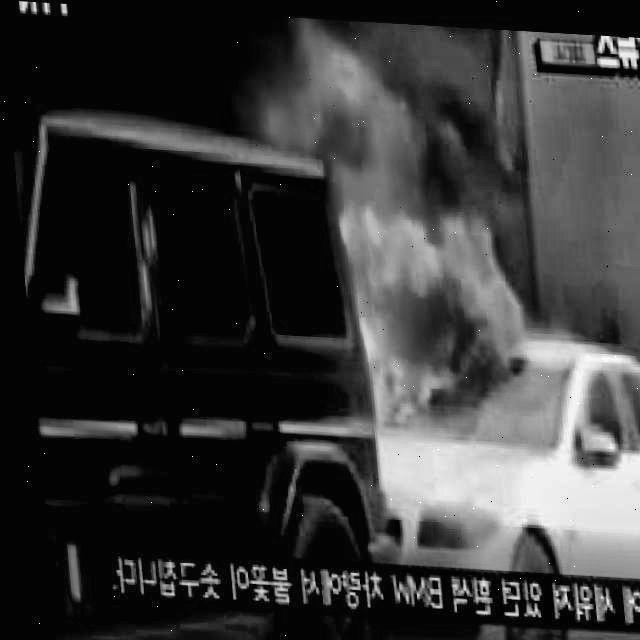Fire: (218, 10, 534, 421)
